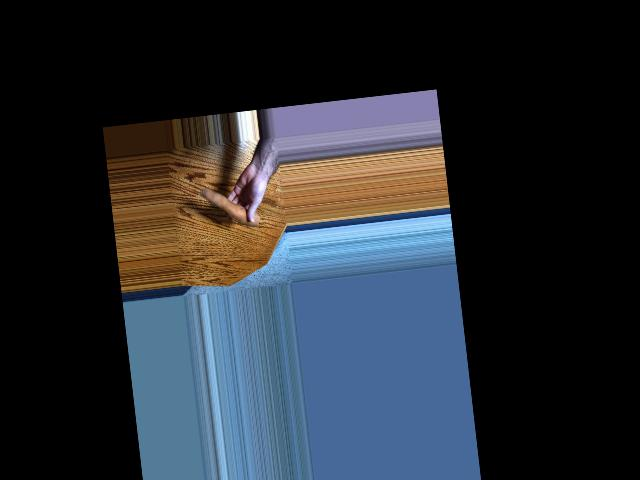sweet_potato: (200, 181, 259, 229)
